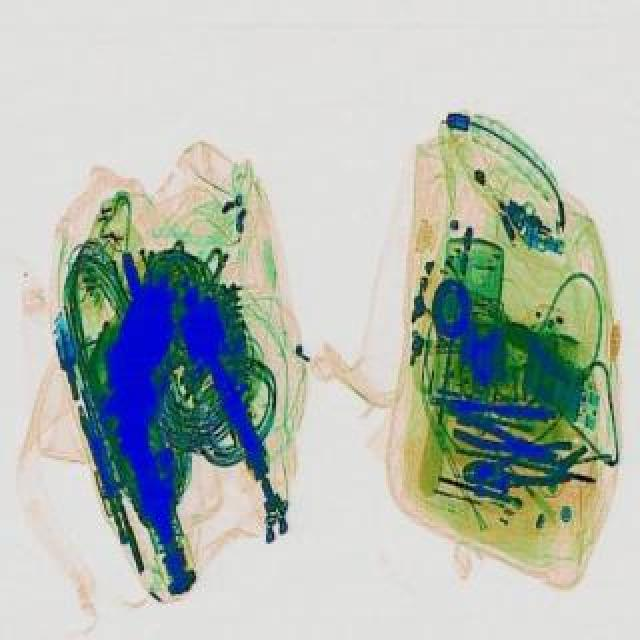wrench: (448, 408, 562, 470), (460, 438, 574, 490)
